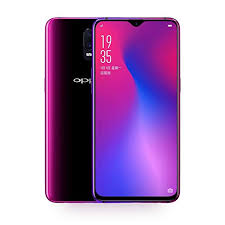oppo: (42, 11, 179, 204)
